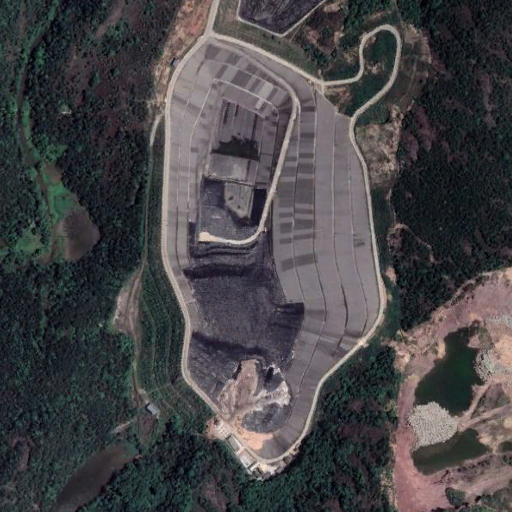lf: (160, 29, 386, 480)
